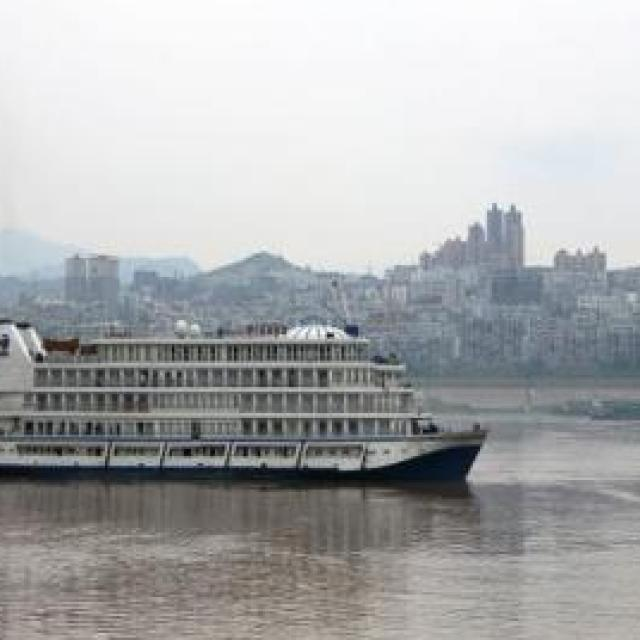passenger ship: (0, 306, 492, 480)
